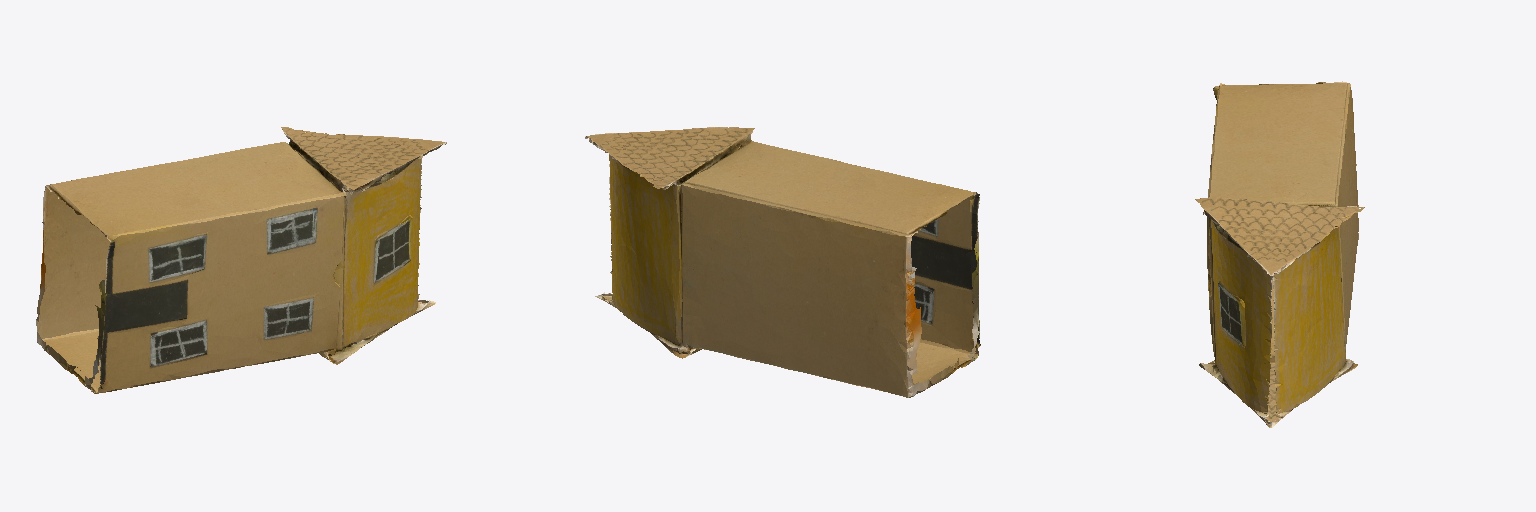
3 views of the same model, side by side, from view 1: azimuth 30°, elevation 25°; view 2: azimuth 150°, elevation 25°; view 3: azimuth 270°, elevation 25° (orthographic).
Size of the model in its own units: 5.18 by 2.36 by 2.03.
1 materials, 1 textured.